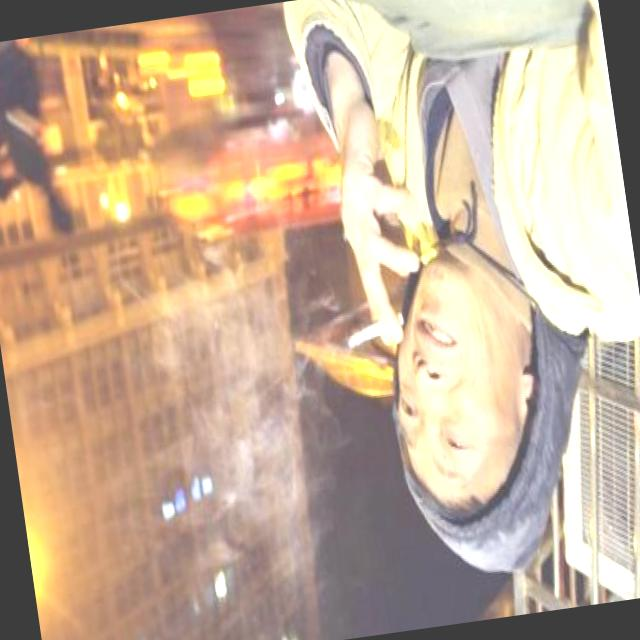smoke: (334, 276, 431, 366)
